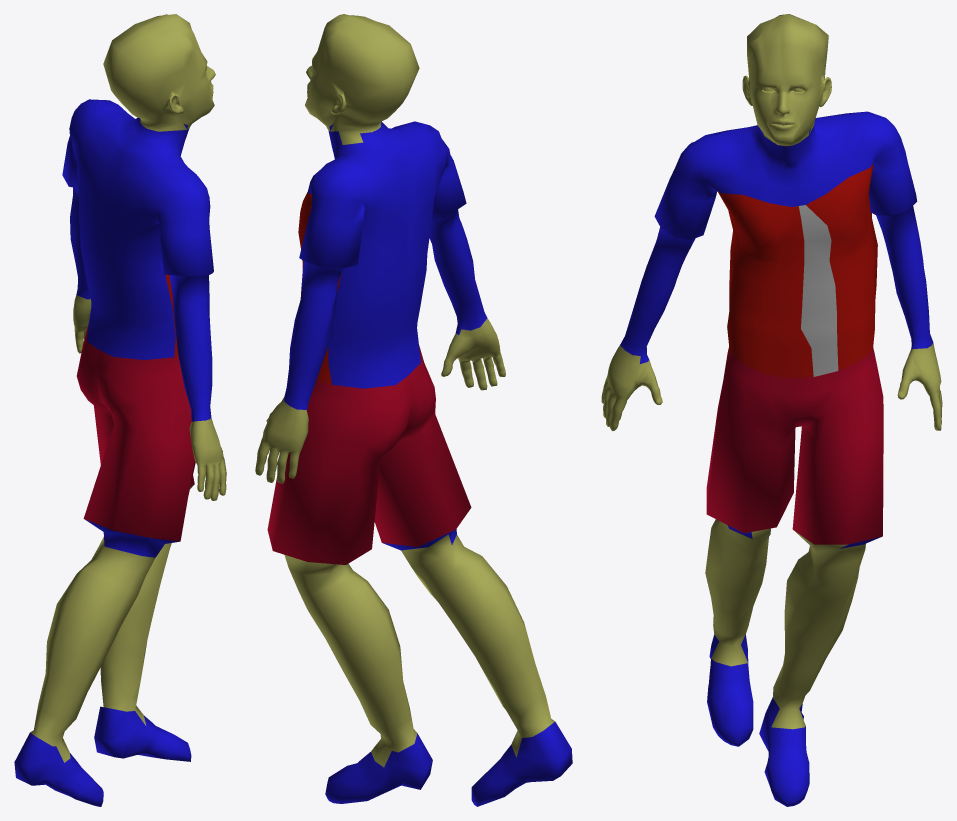
Rendered from player_000018.obj.
The picture shows the model from 3 angles, left to right: view 1: azimuth 30°, elevation 25°; view 2: azimuth 150°, elevation 25°; view 3: azimuth 270°, elevation 25°; orthographic projection. The views are drawn at different scales.
Visible parts, largest first — view 1: soccerplayer_mesh; view 2: soccerplayer_mesh; view 3: soccerplayer_mesh.
Part boxes in pixels (x1,y1,x2,y2): soccerplayer_mesh: (14,14,226,806); soccerplayer_mesh: (255,14,572,806); soccerplayer_mesh: (601,14,942,806).
Size of the model in its own units: 1.72 by 5.44 by 2.17.
